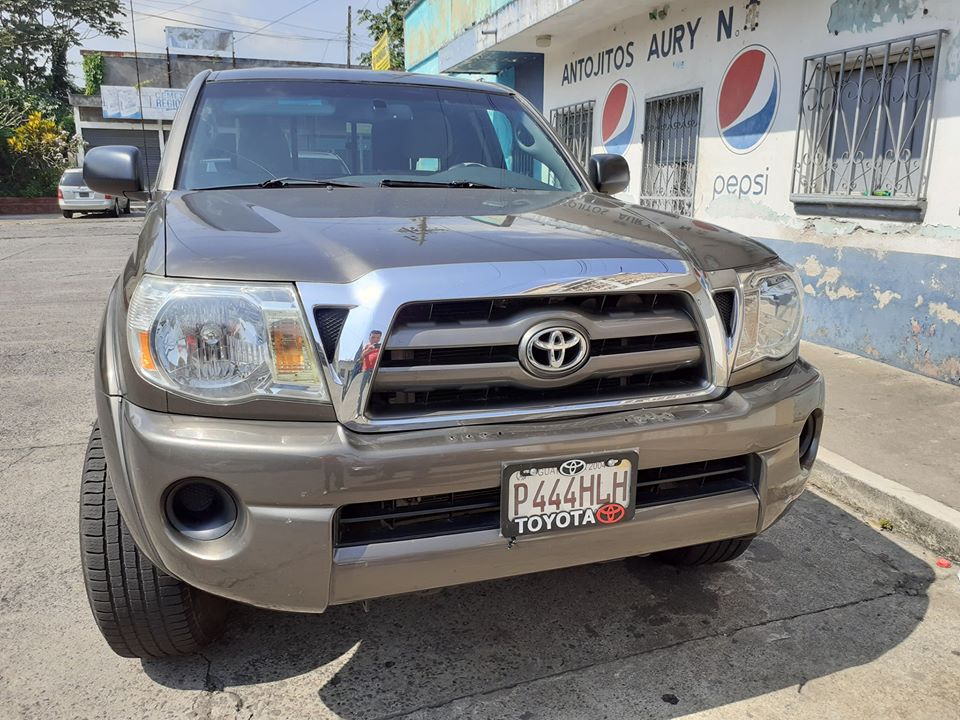pickup: (84, 61, 838, 622)
